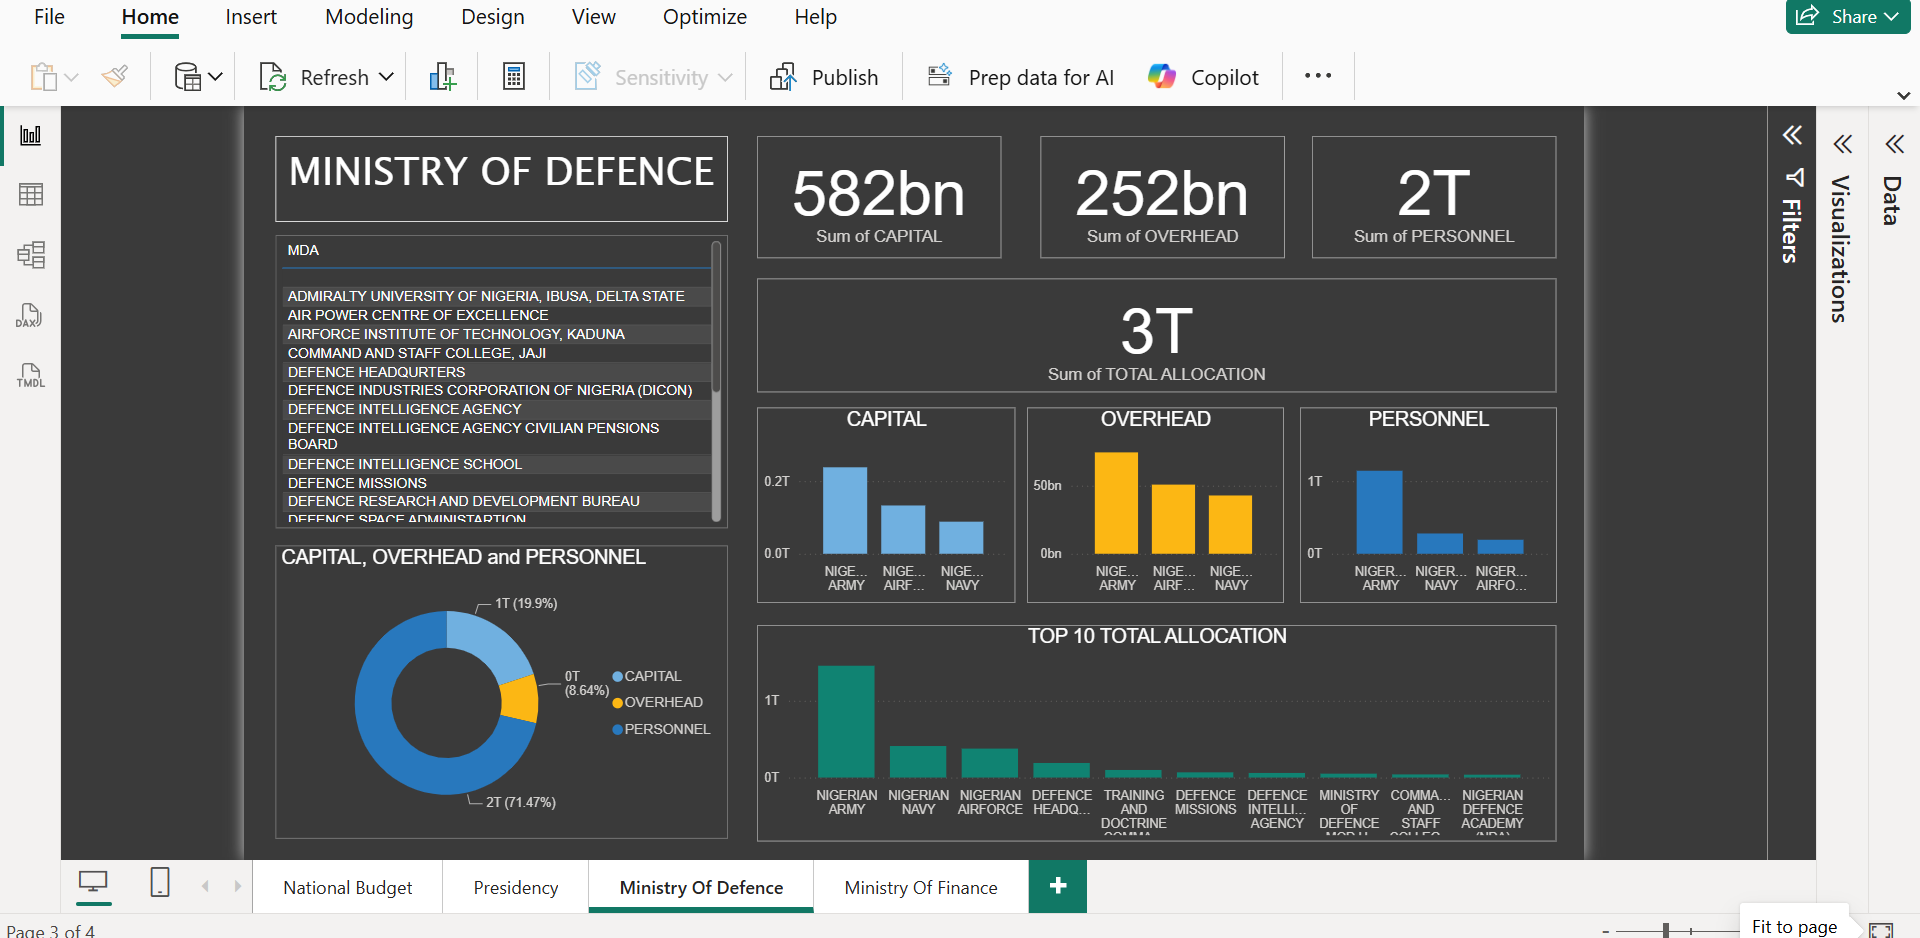

Layout of this report page (visuals, bound fields, positions):
{"tool":"powerbi","page":{"name":"Ministry Of Defence","canvas":[1280,720],"ordinal":2},"visuals":[{"type":"tableEx","fields":{"Values":["Ministry Of Defence.MDA"]},"box":[30,123.3,431.7,280],"z":0},{"type":"donutChart","fields":{"Y":["Sum(Ministry Of Defence.CAPITAL)","Sum(Ministry Of Defence.OVERHEAD)","Sum(Ministry Of Defence.PERSONNEL)"]},"box":[30,420,431.7,280],"z":1000},{"type":"card","fields":{"Values":["Sum(Ministry Of Defence.CAPITAL)"]},"box":[490,28.3,233.3,116.7],"z":2000},{"type":"card","fields":{"Values":["Sum(Ministry Of Defence.OVERHEAD)"]},"box":[760,28.3,233.3,116.7],"z":3000},{"type":"card","fields":{"Values":["Sum(Ministry Of Defence.PERSONNEL)"]},"box":[1020,28.3,233.3,116.7],"z":4000},{"type":"card","fields":{"Values":["Sum(Ministry Of Defence.TOTAL ALLOCATION)"]},"box":[490,165,763.3,108.3],"z":5000},{"type":"clusteredColumnChart","title":"CAPITAL","fields":{"Y":["Sum(Ministry Of Defence.CAPITAL)"],"Category":["Ministry Of Defence.MDA"]},"box":[490,288.3,246.7,186.7],"z":6000},{"type":"clusteredColumnChart","title":"OVERHEAD","fields":{"Y":["Sum(Ministry Of Defence.OVERHEAD)"],"Category":["Ministry Of Defence.MDA"]},"box":[748.3,288.3,245,186.7],"z":7000},{"type":"clusteredColumnChart","title":"PERSONNEL","fields":{"Y":["Sum(Ministry Of Defence.PERSONNEL)"],"Category":["Ministry Of Defence.MDA"]},"box":[1008.3,288.3,245,186.7],"z":8000},{"type":"columnChart","title":"TOP 10 TOTAL ALLOCATION","fields":{"Y":["Sum(Ministry Of Defence.TOTAL ALLOCATION)"],"Category":["Ministry Of Defence.MDA"]},"box":[490,495,763.3,206.7],"z":9000},{"type":"textbox","box":[30,28.3,431.7,81.7],"z":10000}]}

Visuals, with their boxes on the page's 1280x720 design canvas (x1, y1, x2, y2). These are canvas units, not pixel positions in the 1920x938 screenshot, which may show the page scaled, cropped or inside an application window:
tableEx - Ministry Of Defence.MDA: detection(30, 123, 462, 403)
donutChart - Sum(Ministry Of Defence.CAPITAL) x Sum(Ministry Of Defence.OVERHEAD): detection(30, 420, 462, 700)
card - Sum(Ministry Of Defence.CAPITAL): detection(490, 28, 723, 145)
card - Sum(Ministry Of Defence.OVERHEAD): detection(760, 28, 993, 145)
card - Sum(Ministry Of Defence.PERSONNEL): detection(1020, 28, 1253, 145)
card - Sum(Ministry Of Defence.TOTAL ALLOCATION): detection(490, 165, 1253, 273)
"CAPITAL" clusteredColumnChart: detection(490, 288, 737, 475)
"OVERHEAD" clusteredColumnChart: detection(748, 288, 993, 475)
"PERSONNEL" clusteredColumnChart: detection(1008, 288, 1253, 475)
"TOP 10 TOTAL ALLOCATION" columnChart: detection(490, 495, 1253, 702)
textbox: detection(30, 28, 462, 110)
